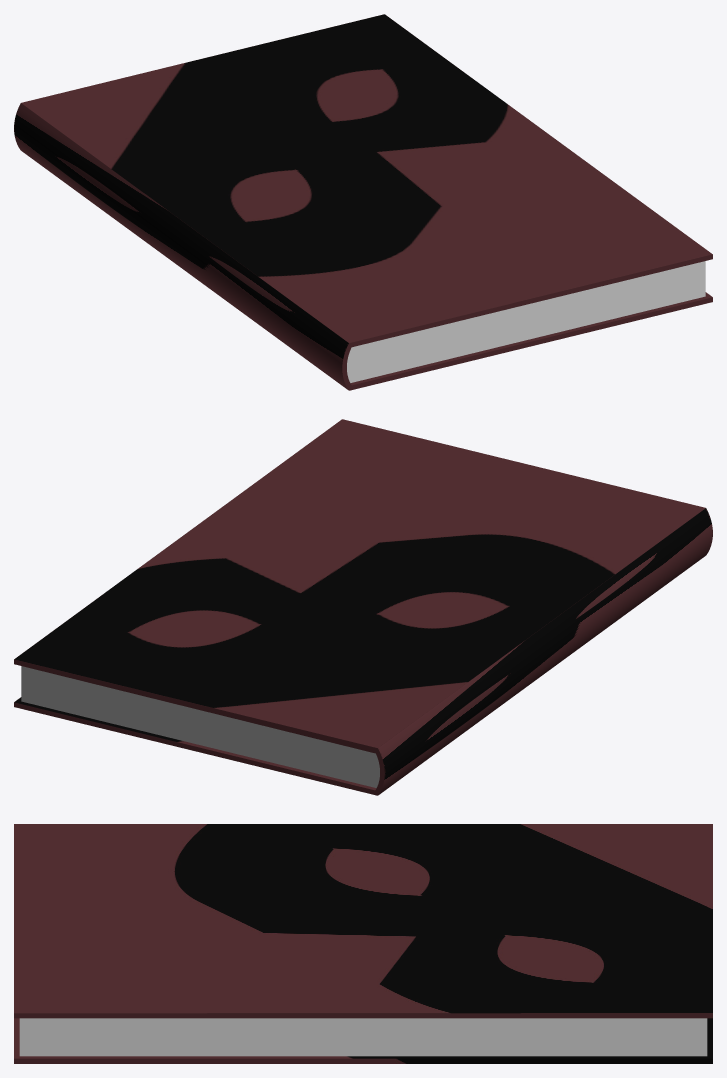
File: thief book final.fbx
The picture shows the model from 3 angles, top to bottom: view 1: azimuth 30°, elevation 25°; view 2: azimuth 150°, elevation 25°; view 3: azimuth 270°, elevation 25°; orthographic projection. The views are drawn at different scales.
Visible parts, largest first — view 1: book_shape:polySurface1; view 2: book_shape:polySurface1; view 3: book_shape:polySurface1.
Part boxes in pixels (bbox=[...]): book_shape:polySurface1: bbox=[14, 14, 712, 390]; book_shape:polySurface1: bbox=[14, 419, 712, 795]; book_shape:polySurface1: bbox=[14, 824, 712, 1063].
Bounding box in the file's own units: 16.3 × 2 × 25.
